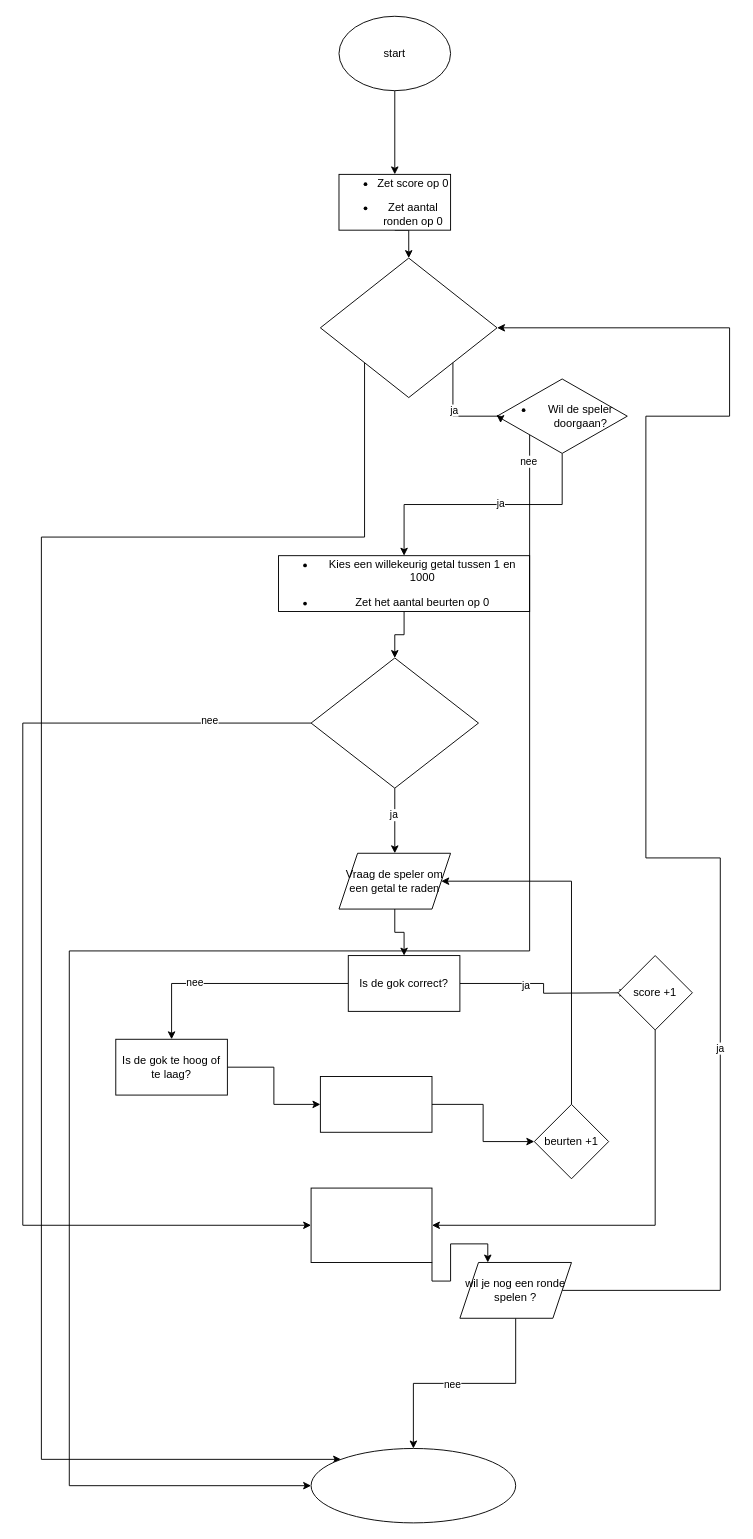
The diagram is 753 pixels wide and 1539 high, and some of its shapes have lost their labels. The centre of each missing label's shape, as x and y in pixels:
< 50: "Je bent warm" < 20: "Je bent heel warm": point (375, 1104)
Is het aantal beurten kleiner dan 10?: point (394, 722)
Meld de score tot nu toe Verhoog aantal ronden: point (371, 1224)
Toon de eindscore Beëindig het programma: point (413, 1485)
Zijn er minder dan 20 ronden gespeeld?: point (408, 327)
